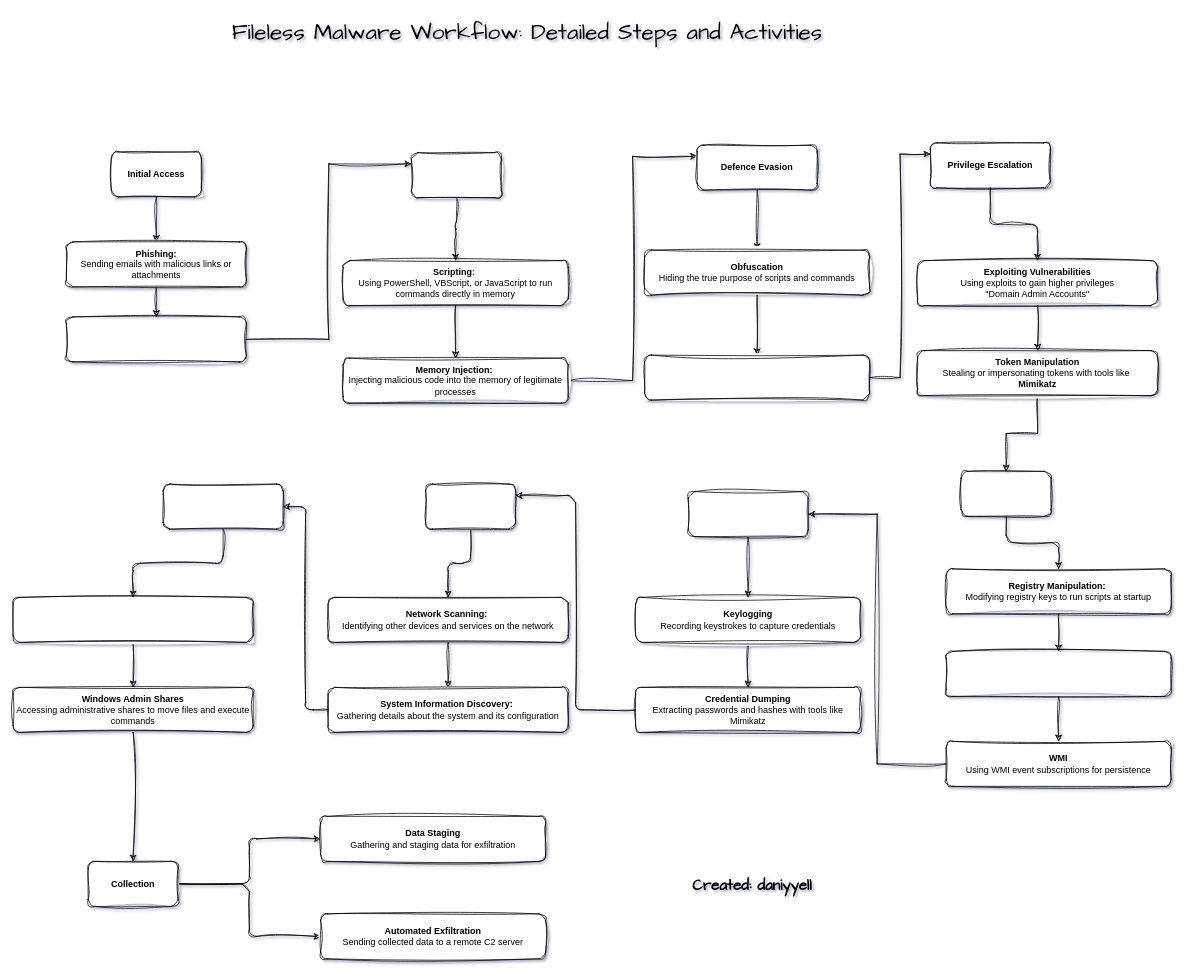
Image size: 1189x977. Some labels were removed from this diagram. Each missing label, with the box of its shape:
Credential Access: (687, 491, 808, 537)
Disabling Security Tools Turning off antivirus and other security measures: (644, 354, 870, 400)
Discovery: (425, 483, 516, 529)
Execution: (411, 152, 501, 198)
Exploiting Vulnerabilities: Targeting software vulnerabilities to gain access: (66, 316, 246, 362)
Lateral Movement: (162, 483, 283, 529)
Persistence: (960, 471, 1051, 516)
Remote Services Using RDP or WMI to access other systems: (12, 597, 253, 642)
Scheduled Tasks: Creating tasks to execute scripts at specified times: (945, 651, 1171, 696)
